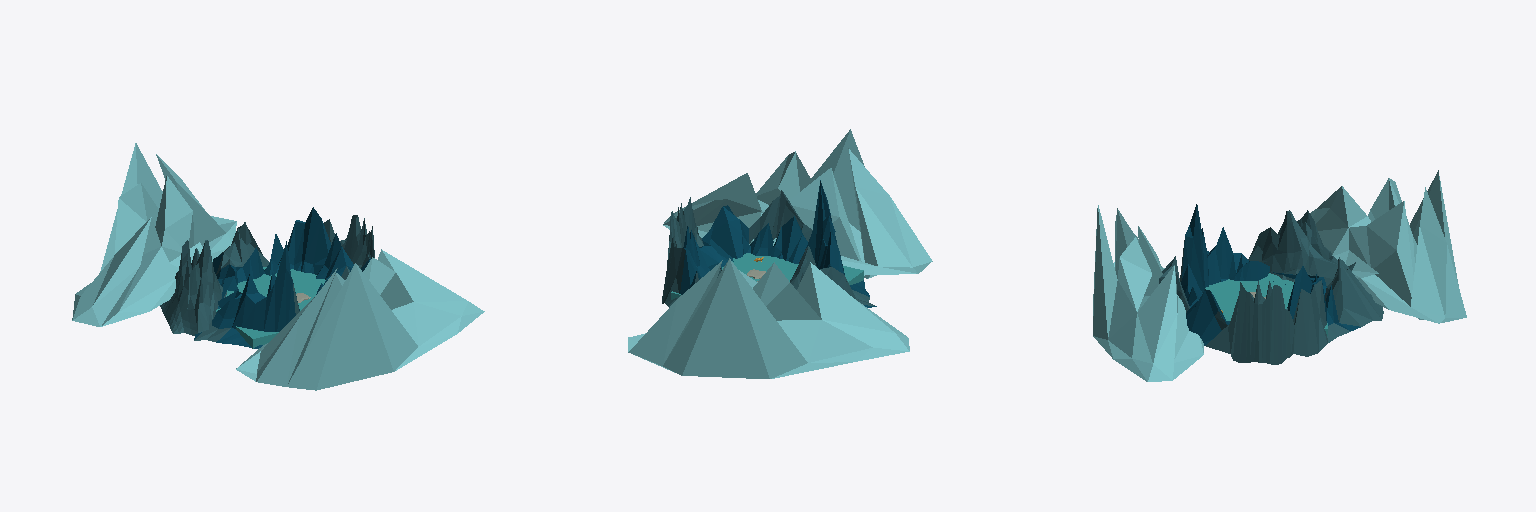
Rendered from planeroller62.obj.
3 views of the same model, side by side, from view 1: azimuth 30°, elevation 25°; view 2: azimuth 150°, elevation 25°; view 3: azimuth 270°, elevation 25° (orthographic).
Parts seen in each view (by area): view 1: Icosphere.001, Icosphere, Torus, Plane, Cube; view 2: Icosphere, Icosphere.001, Torus, Cube, Plane; view 3: Torus, Icosphere, Icosphere.001, Plane, Cube.
Part boxes in pixels (x1,y1,x2,y2): Icosphere.001: (236,249,484,390); Icosphere: (72,143,236,326); Torus: (194,207,374,348); Plane: (160,240,226,335); Cube: (216,267,325,348); Icosphere: (628,258,909,378); Icosphere.001: (663,129,932,278); Torus: (662,180,876,307); Cube: (671,253,863,299); Plane: (790,246,856,299); Torus: (1159,204,1383,364); Icosphere: (1310,170,1466,323); Icosphere.001: (1093,205,1203,381); Plane: (1248,210,1355,281); Cube: (1205,273,1327,335).
Bounding box in the file's own units: 371 × 144 × 370.